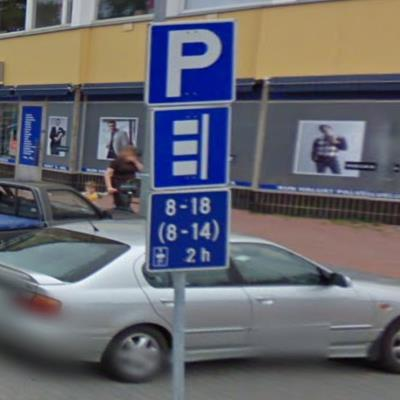parking: (148, 19, 235, 106)
